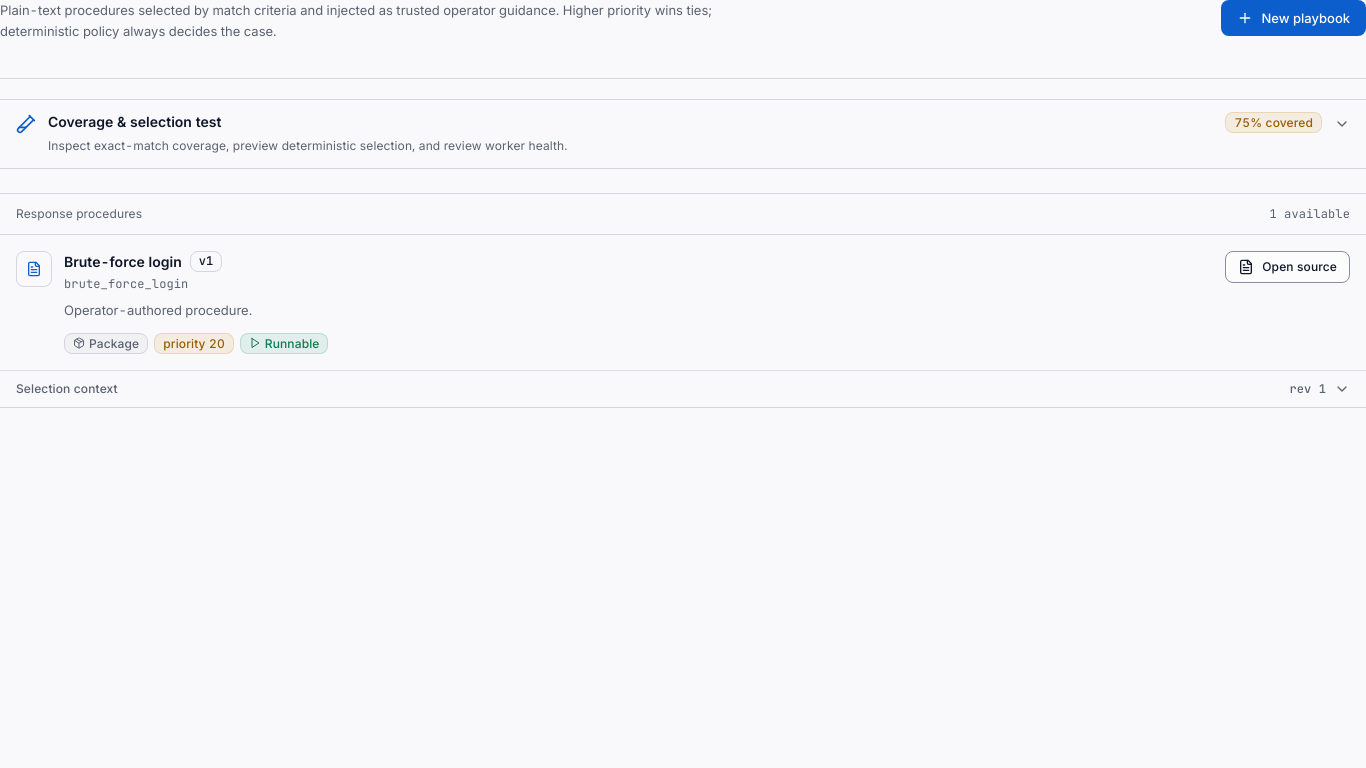
Playbooks Catalog management › opens bundled Markdown but never offers an edit action
The width and height of the screenshot is (1366, 768).
Expected: the heading "Brute-force login" is shown, x1=64 y1=252 x2=182 y2=270
Expected: the text "Package" is shown, x1=64 y1=333 x2=148 y2=354
Step 1. Click the heading "Selection context rev 1" → (67, 388), box x1=16 y1=381 x2=1350 y2=397
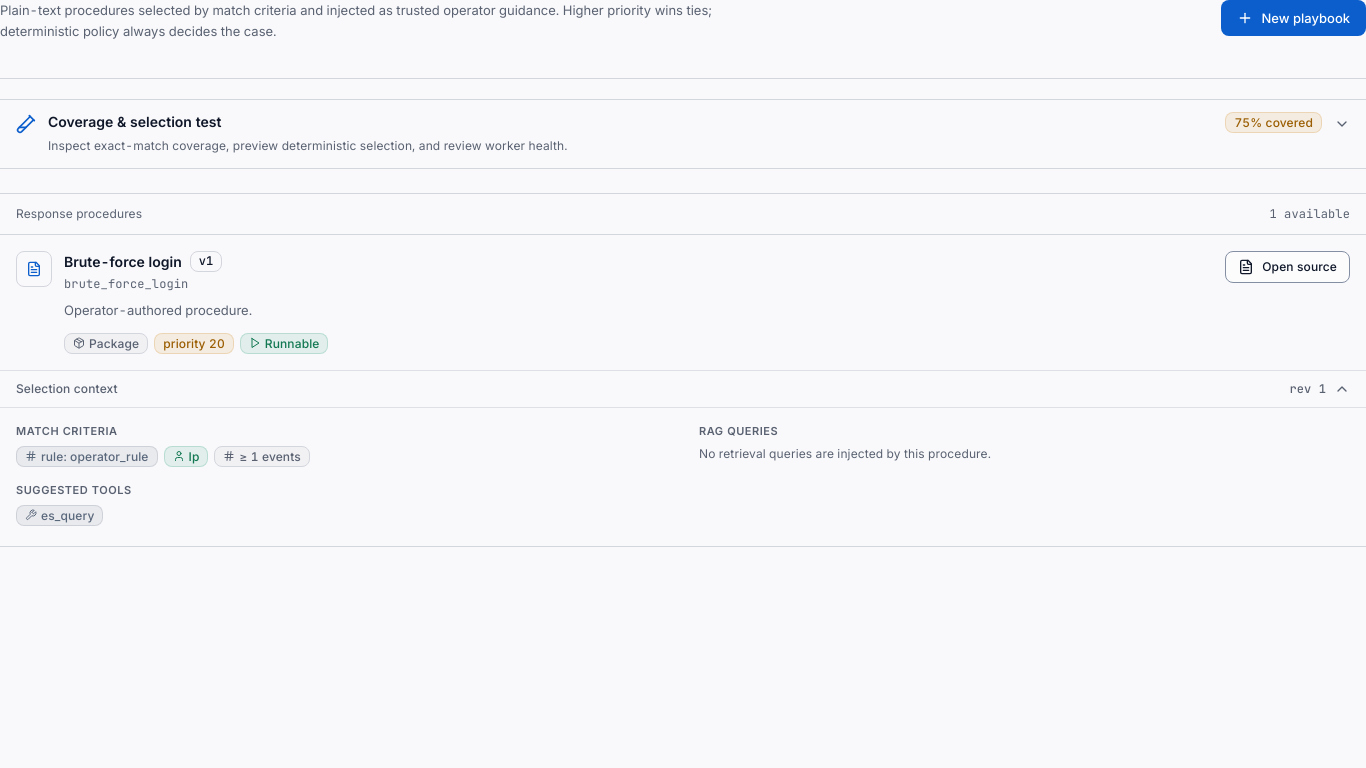
Step 2. Click the button "Open source" → (1288, 267), box x1=1225 y1=251 x2=1350 y2=283
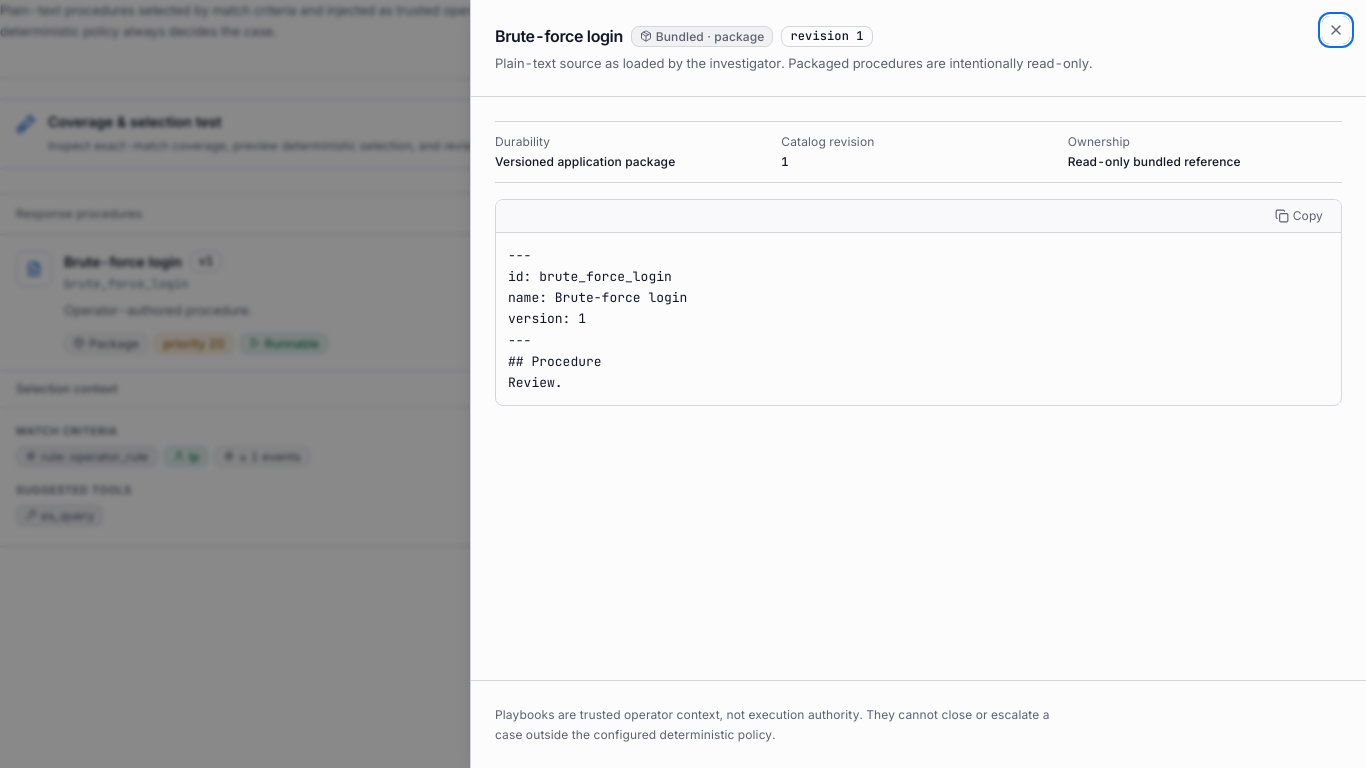
Expected: the text "Bundled · package" is shown, x1=631 y1=26 x2=773 y2=46
Expected: the text "id: brute_force_login" is shown, x1=508 y1=247 x2=687 y2=391
